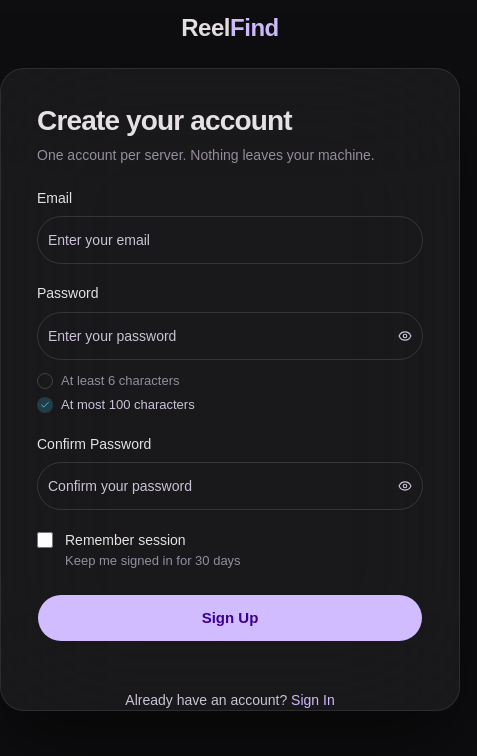
Test: AuthForm (sign-up) › blocks a mismatched confirmation
The image size is (477, 756).
Type "viewer@reelfind.test" into the field labelled "Email".
click(230, 240); type("viewer@reelfind.test")  # box [38, 224, 422, 256]
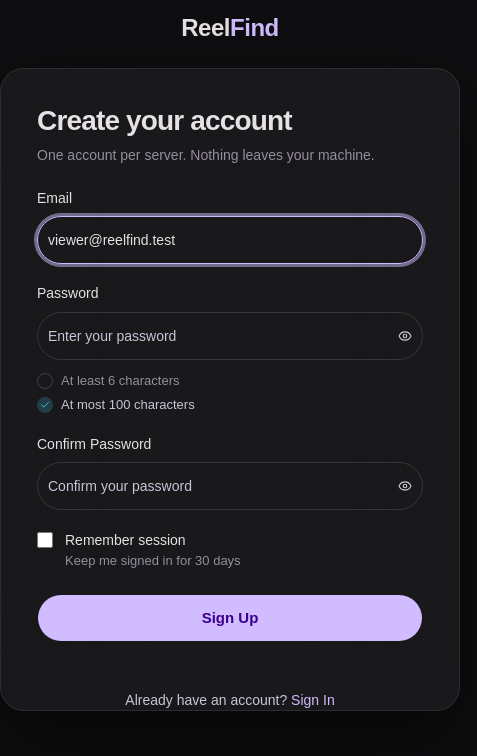
Type "hunter2" into the password field labelled "Password".
click(214, 336); type("hunter2")  # box [38, 320, 391, 352]
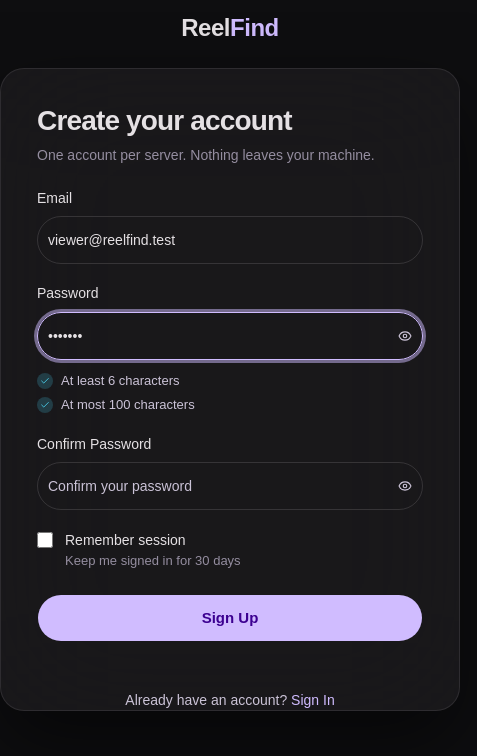
Type "hunter3" into the password field labelled "Confirm Password".
click(214, 486); type("hunter3")  # box [38, 470, 391, 502]
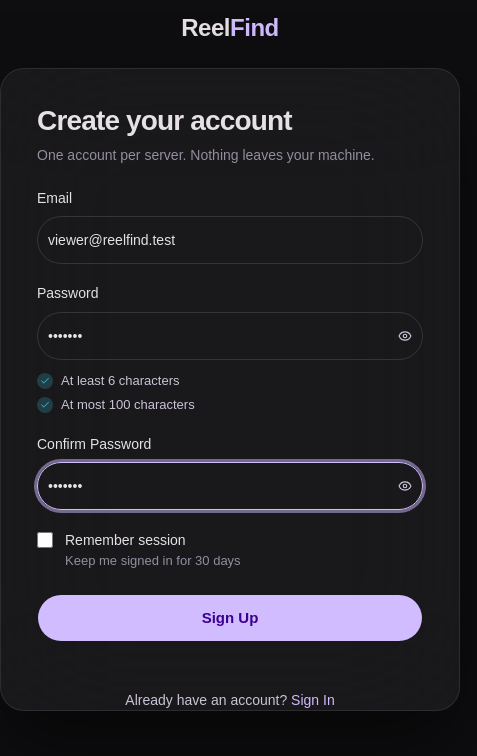
Click the button "Sign Up".
click(230, 618)  # box [37, 594, 423, 642]
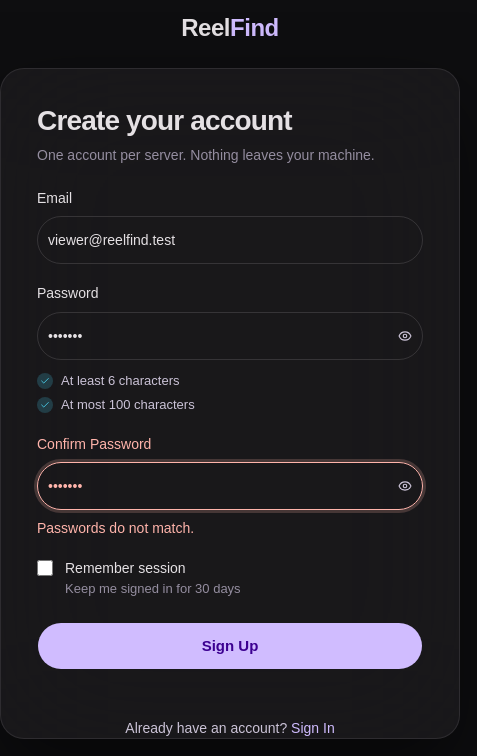
expect the text "Passwords do not match." is shown: met, box [37, 520, 194, 536]
